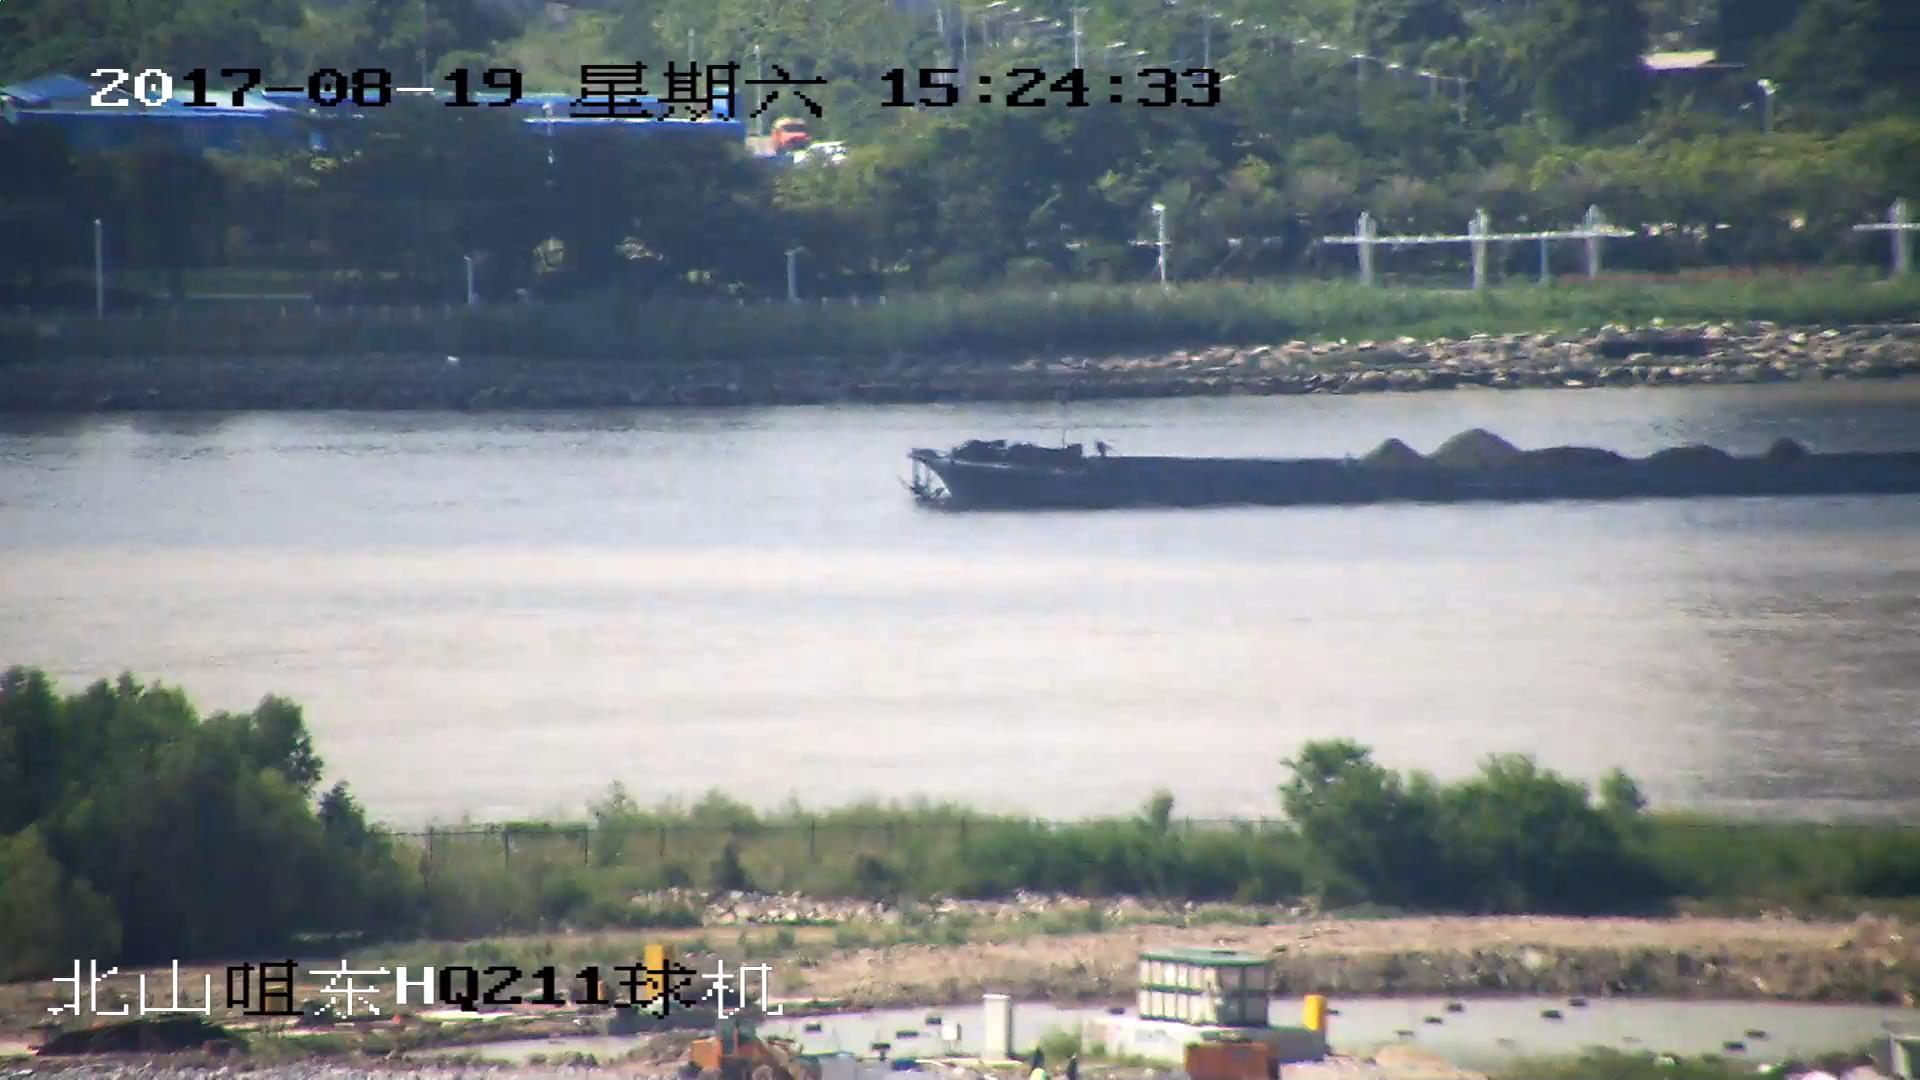Ship: (909, 421, 1920, 520)
